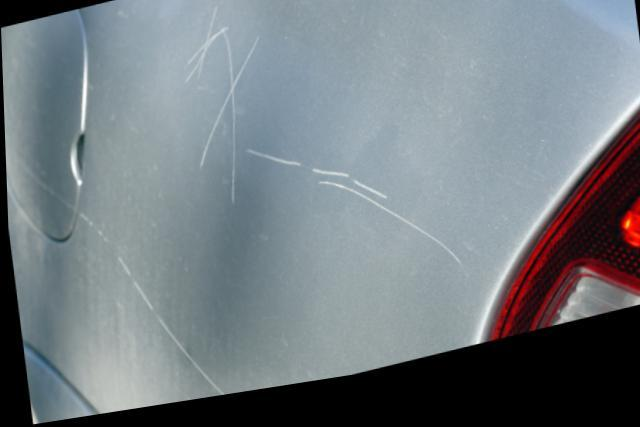scratch: (172, 12, 459, 278), (73, 210, 224, 402)
